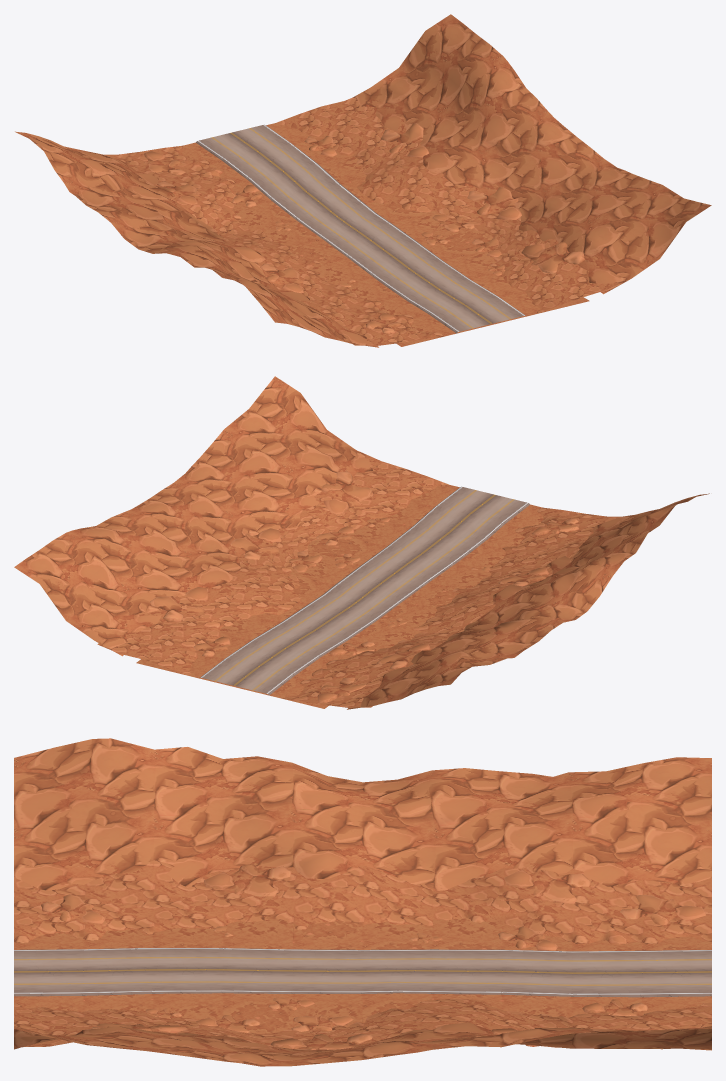
File: Desert_Original2.FBX
3 renders of one model, top to bottom at view 1: azimuth 30°, elevation 25°; view 2: azimuth 150°, elevation 25°; view 3: azimuth 270°, elevation 25°, orthographic. The views are drawn at different scales.
Parts seen in each view (by area): view 1: Desert_Original2_L, Desert_Original2_R, Desert_Original2_Road; view 2: Desert_Original2_L, Desert_Original2_R, Desert_Original2_Road; view 3: Desert_Original2_R, Desert_Original2_L, Desert_Original2_Road.
Boxes of the visible parts, left/top/right/bottom form: Desert_Original2_L: left=266, top=14, right=711, bottom=324; Desert_Original2_R: left=15, top=131, right=491, bottom=347; Desert_Original2_Road: left=196, top=124, right=525, bottom=333; Desert_Original2_L: left=14, top=376, right=459, bottom=686; Desert_Original2_R: left=234, top=493, right=709, bottom=709; Desert_Original2_Road: left=200, top=486, right=529, bottom=695; Desert_Original2_R: left=14, top=738, right=711, bottom=951; Desert_Original2_L: left=14, top=993, right=711, bottom=1066; Desert_Original2_Road: left=14, top=948, right=711, bottom=997.
Bounding box in the file's own units: 49.29 × 7.58 × 50.
Materials: 2 (2 with a texture image).
